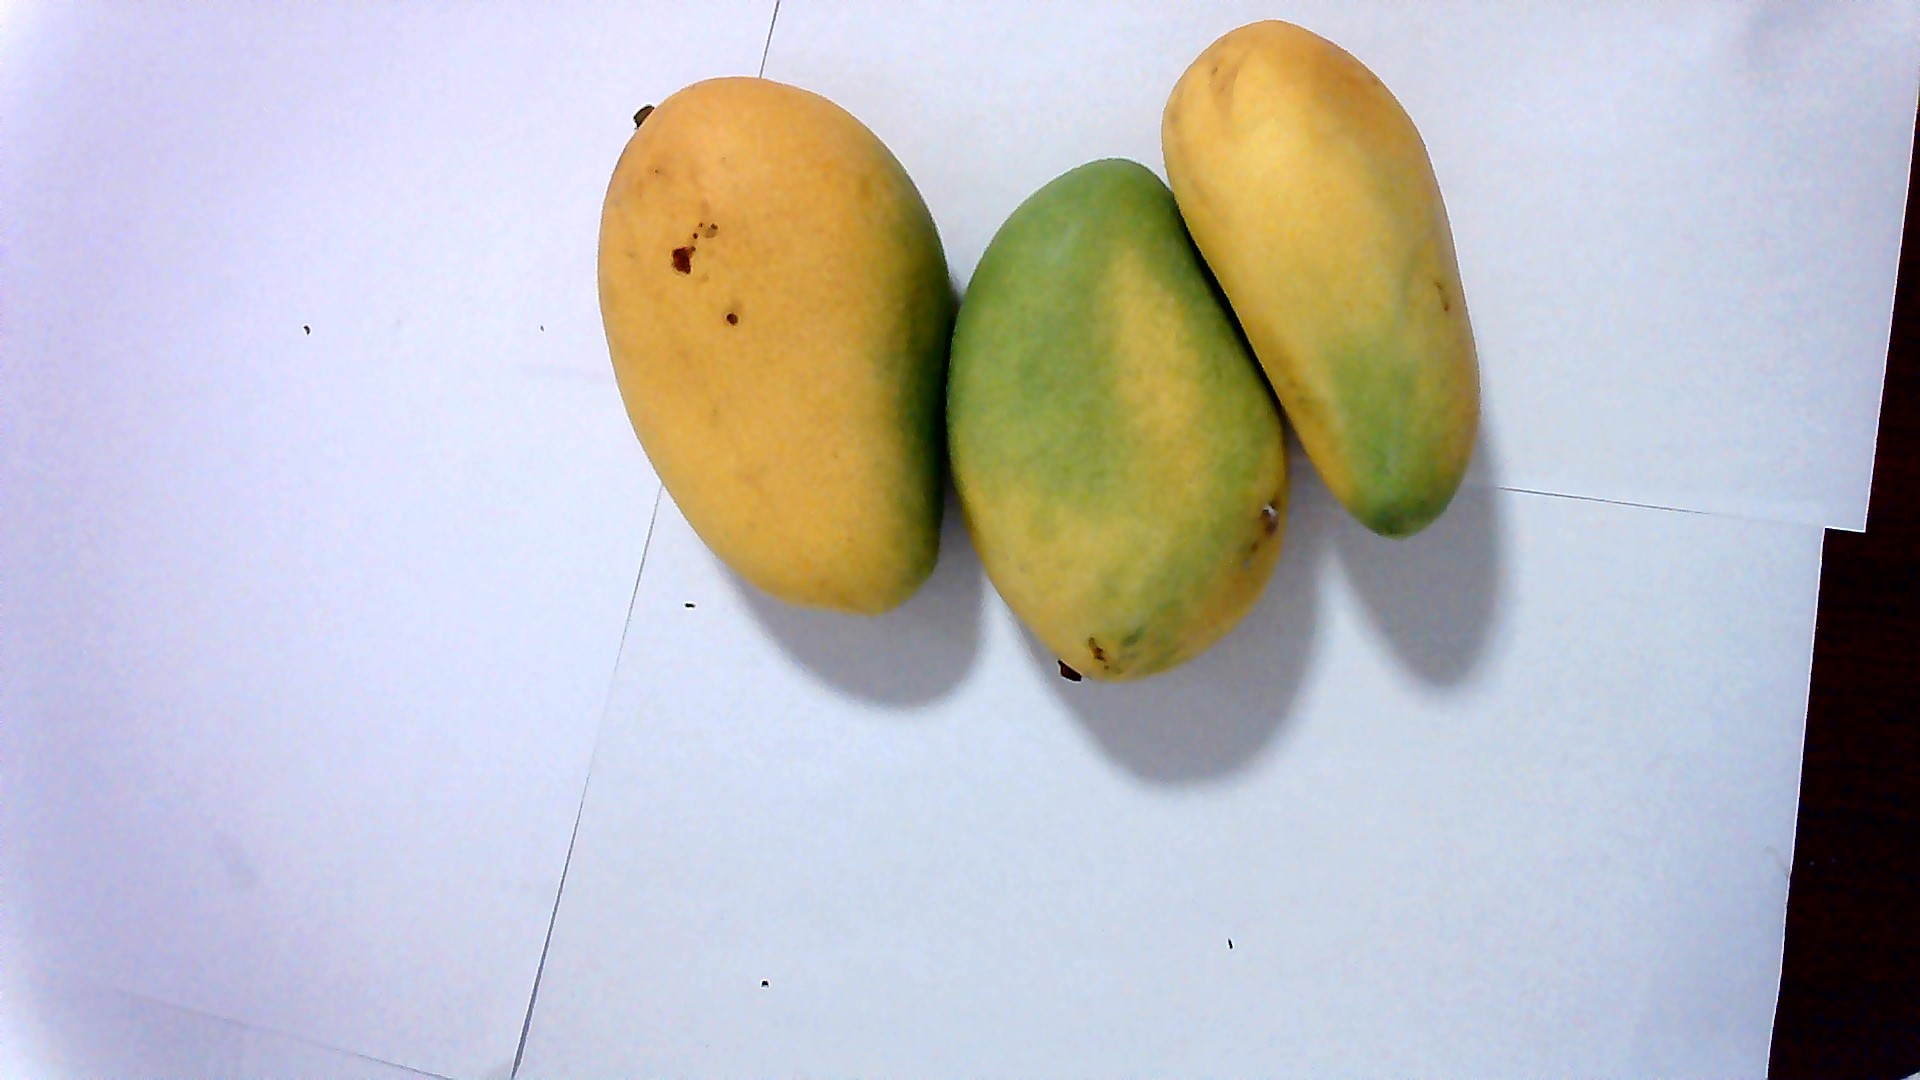mongo: (599, 91, 944, 640), (951, 141, 1276, 671), (1168, 21, 1478, 526)
